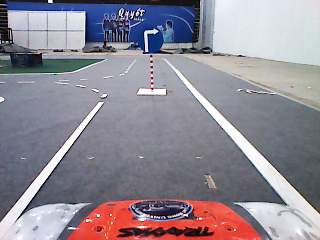turn: (137, 26, 164, 55)
